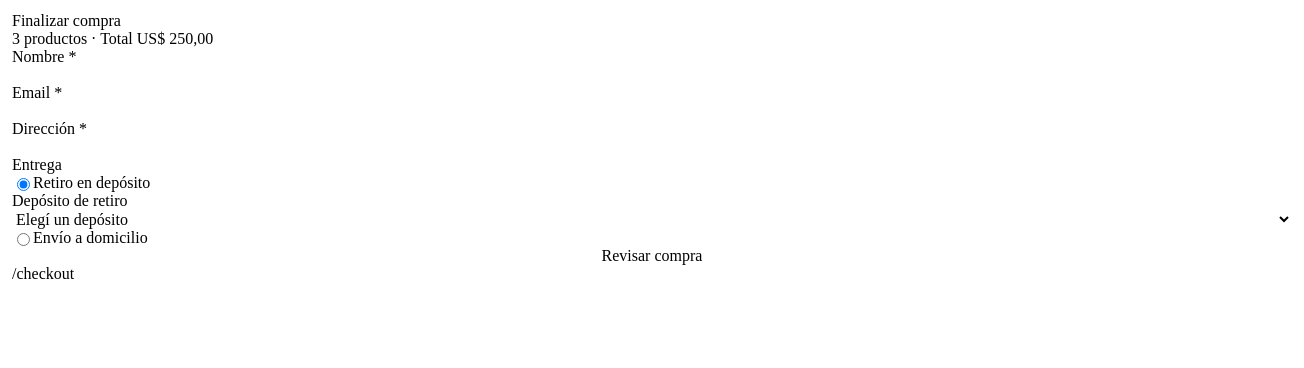
CheckoutFlow › validates in Spanish before calling the API
Click the button "Revisar compra". click: click(652, 256)
box: [12,247,1292,265]
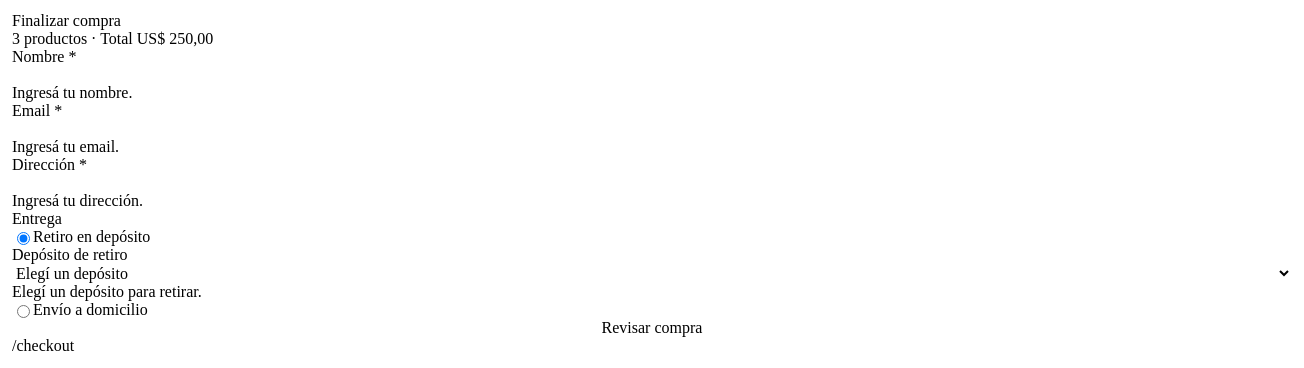
Result: the text "Ingresá tu nombre." is shown at [12,84,132,101]
Result: the text "Ingresá tu email." is shown at [12,138,119,155]
Result: the text "Ingresá tu dirección." is shown at [12,192,143,209]
